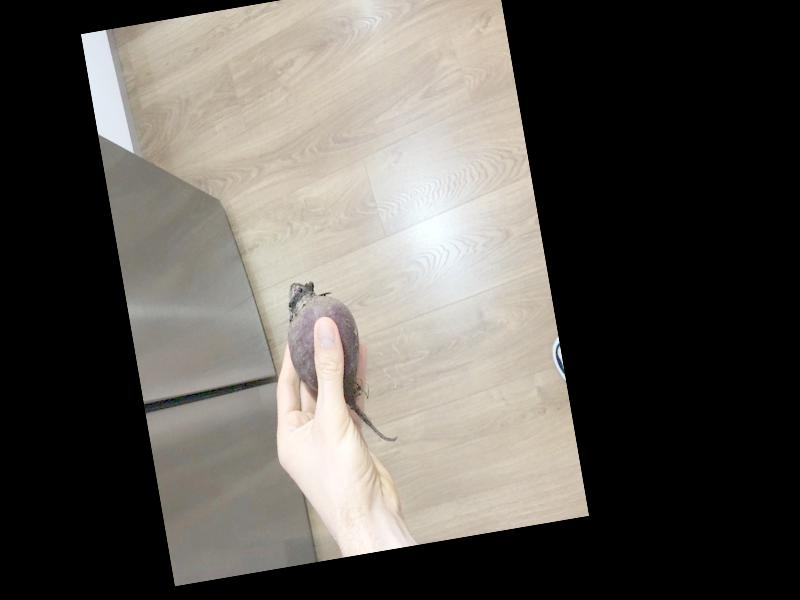Beet: (277, 268, 398, 454)
